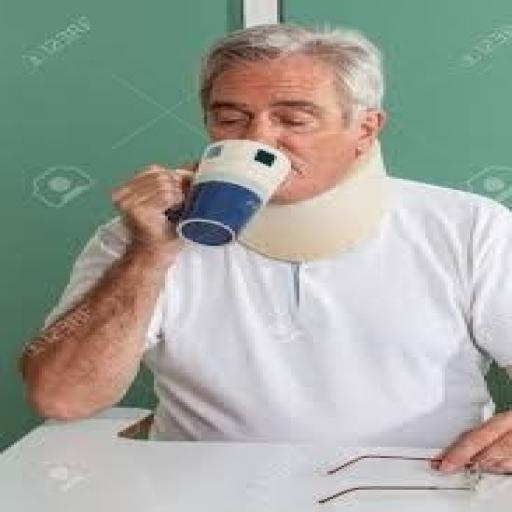drinking: (173, 138, 291, 246)
